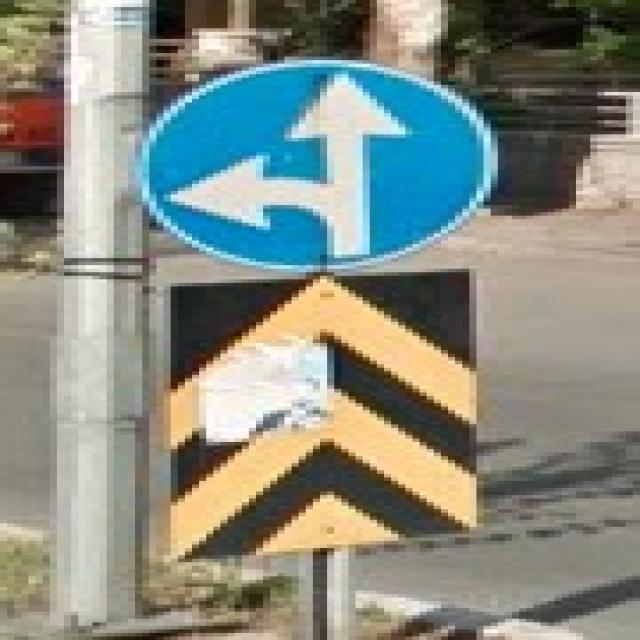Straight or Left: (136, 59, 492, 268)
